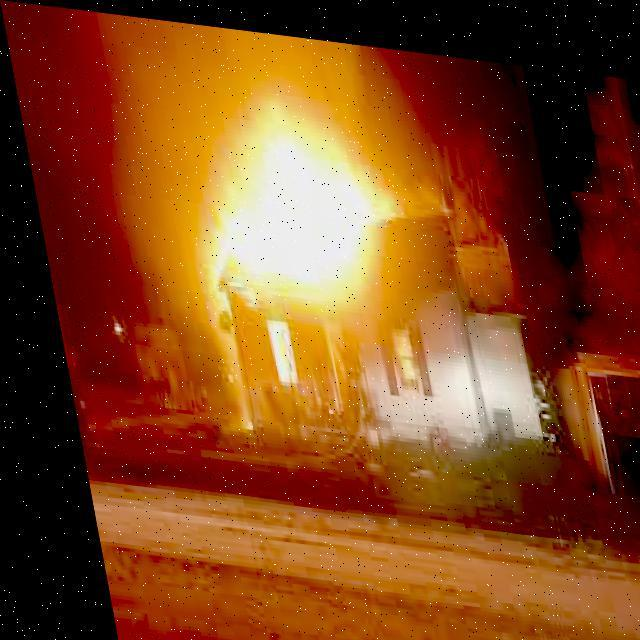Fire: (172, 89, 432, 332)
